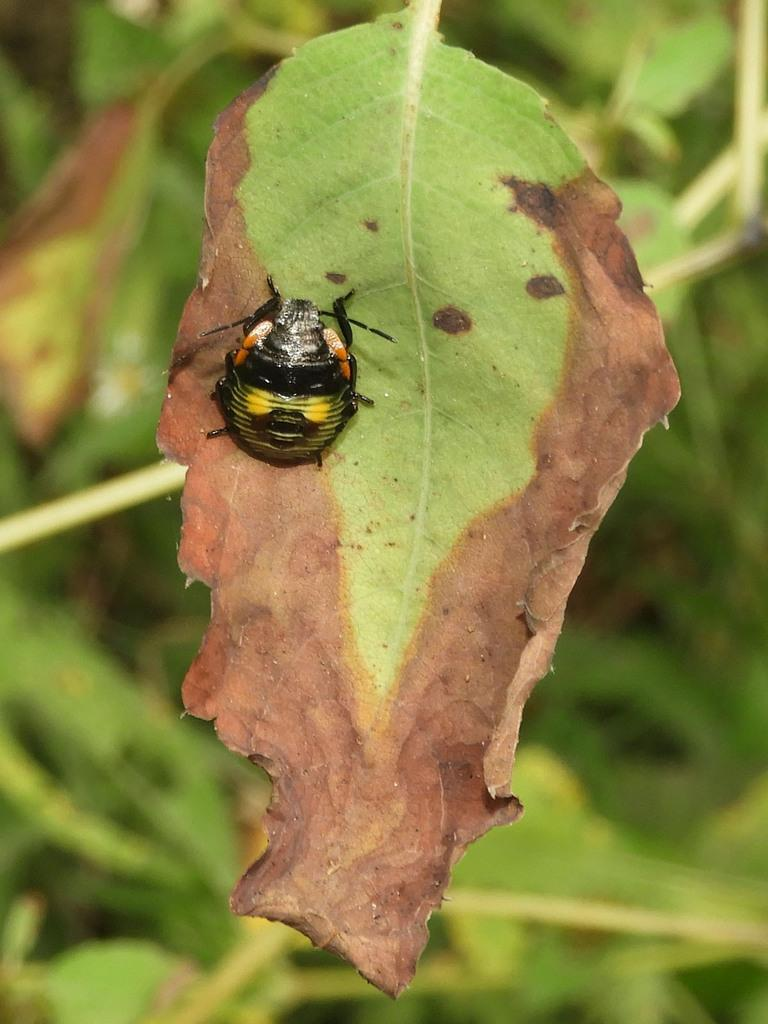stink_bugs: (148, 238, 439, 521)
